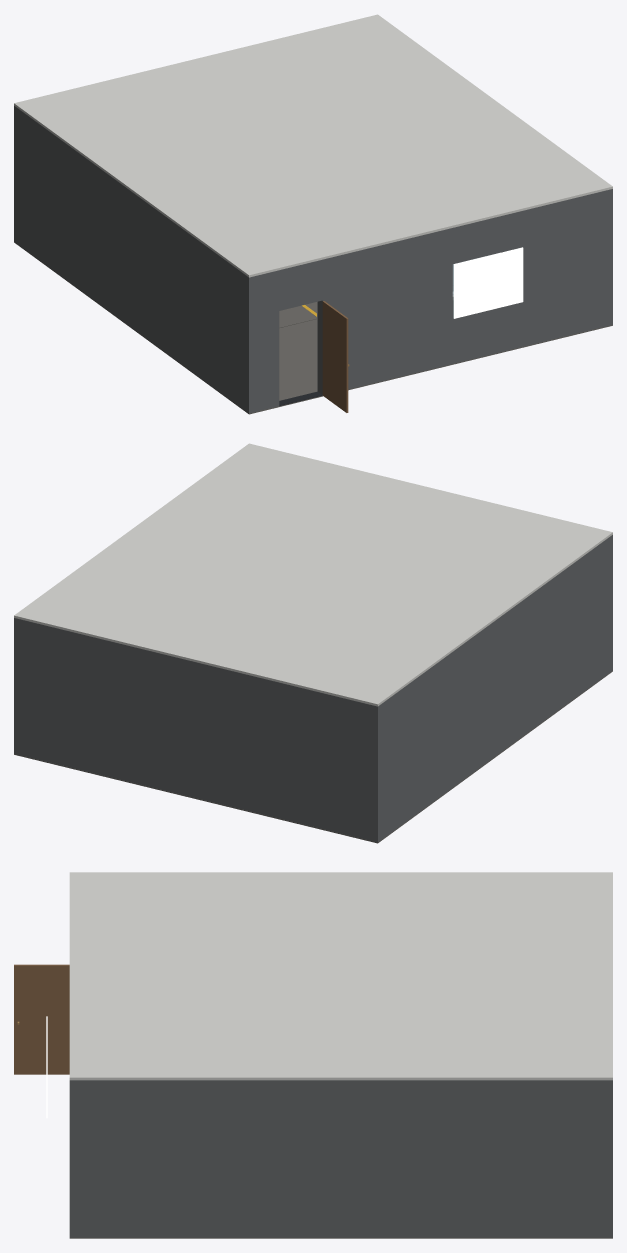
File: garage.glb
3 renders of one model, top to bottom at view 1: azimuth 30°, elevation 25°; view 2: azimuth 150°, elevation 25°; view 3: azimuth 270°, elevation 25°, orthographic. The views are drawn at different scales.
Parts seen in each view (by area): view 1: garage_room; view 2: garage_room; view 3: garage_room.
Boxes of the visible parts, <box> form: garage_room: <box>14,14,612,414</box>; garage_room: <box>14,443,612,843</box>; garage_room: <box>14,872,612,1238</box>.
Bounding box in the file's own units: 8.4 × 3.07 × 10.36.
